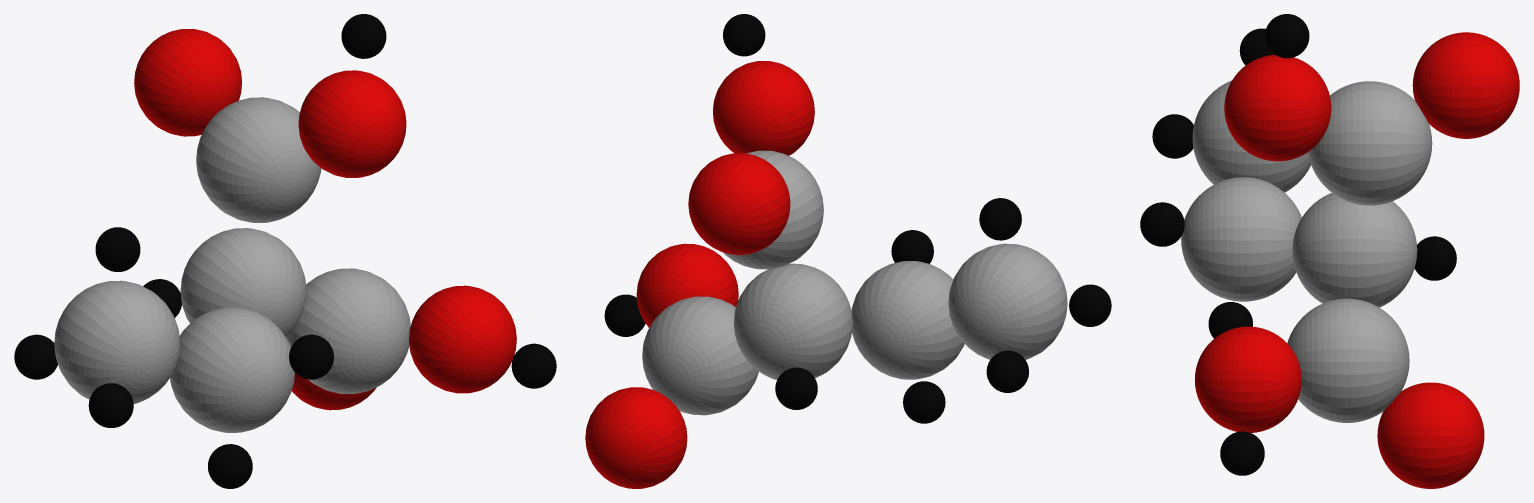
File: Malic Acid.glb
The picture shows the model from 3 angles, left to right: view 1: azimuth 30°, elevation 25°; view 2: azimuth 150°, elevation 25°; view 3: azimuth 270°, elevation 25°; orthographic projection. The views are drawn at different scales.
Parts seen in each view (by area): view 1: world; view 2: world; view 3: world.
Boxes of the visible parts, x1,y1,x2,y2 form: world: (14, 14, 556, 488); world: (585, 14, 1111, 488); world: (1140, 14, 1519, 488).
Bounding box in the file's own units: 6.36 × 5.54 × 4.26.
